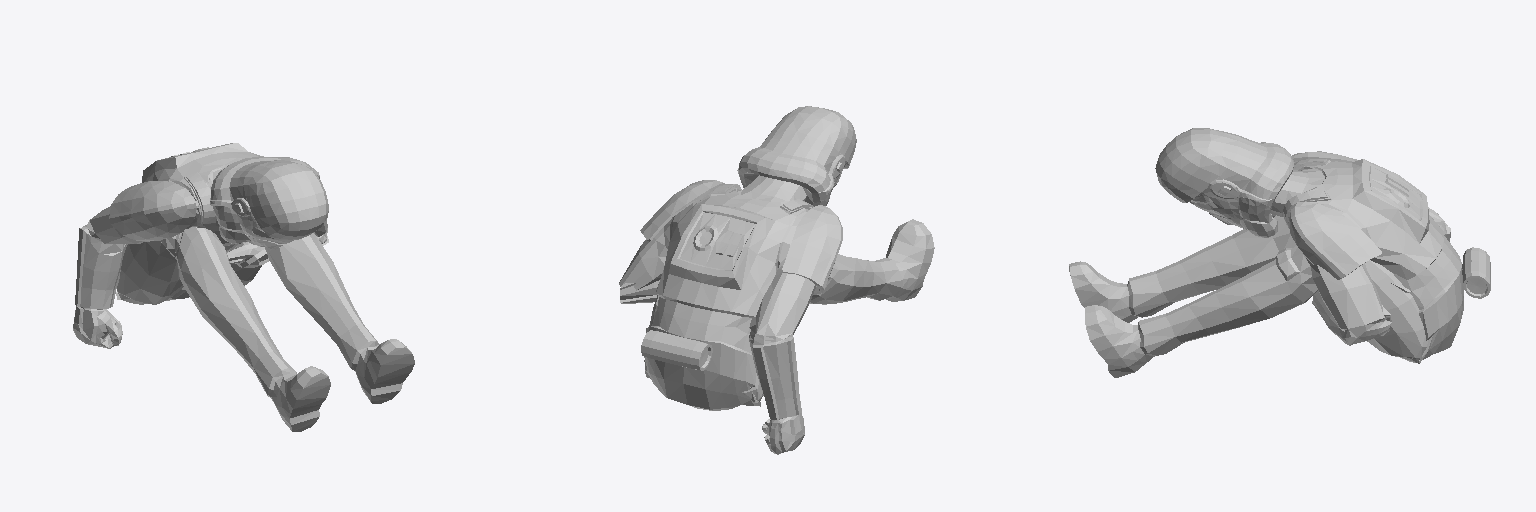
The model's file is Move_000258.obj.
3 views of the same model, side by side, from view 1: azimuth 30°, elevation 25°; view 2: azimuth 150°, elevation 25°; view 3: azimuth 270°, elevation 25° (orthographic).
Bounding box in the file's own units: 1.37 × 1.46 × 2.36.